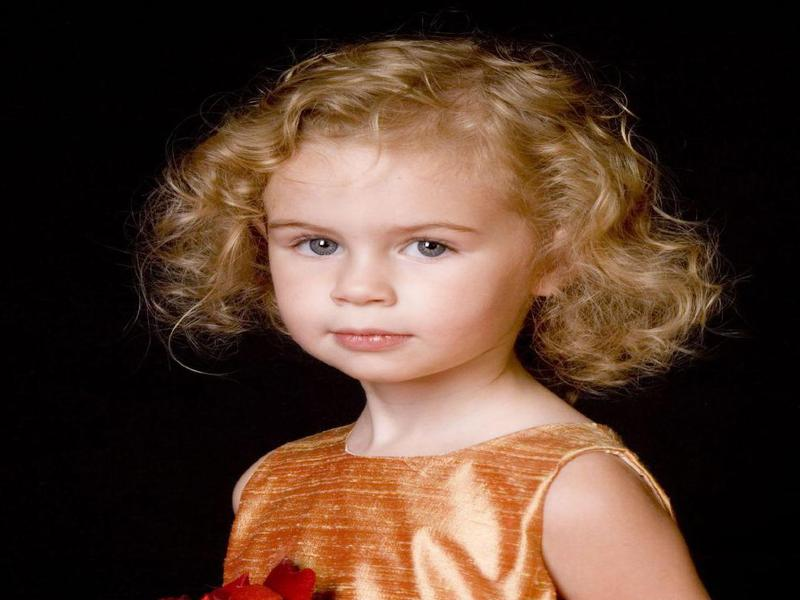person: (148, 36, 710, 600)
